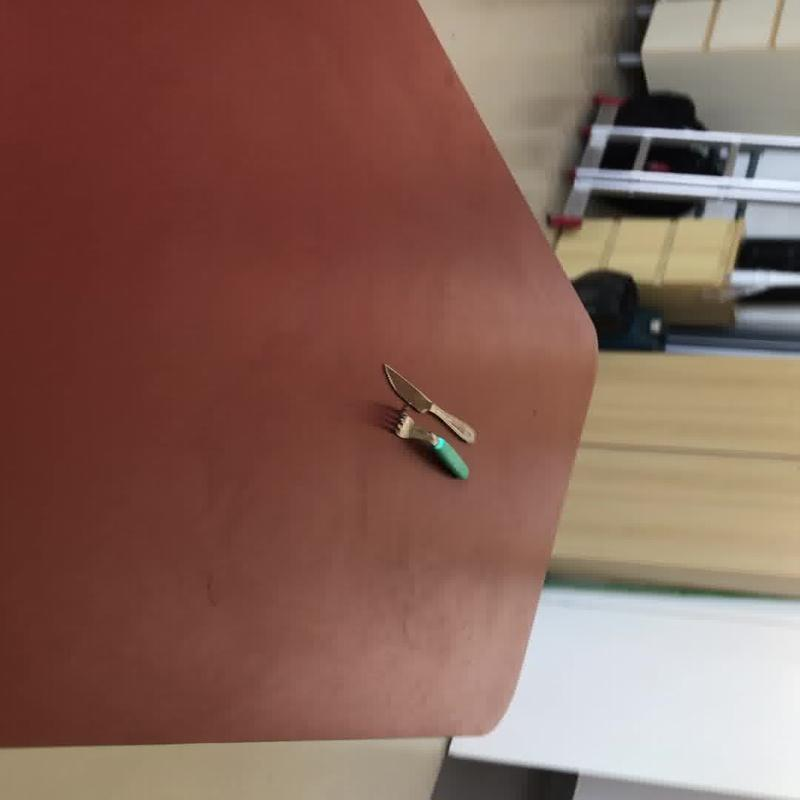fork: (390, 411, 468, 480)
knife: (380, 362, 476, 443)
